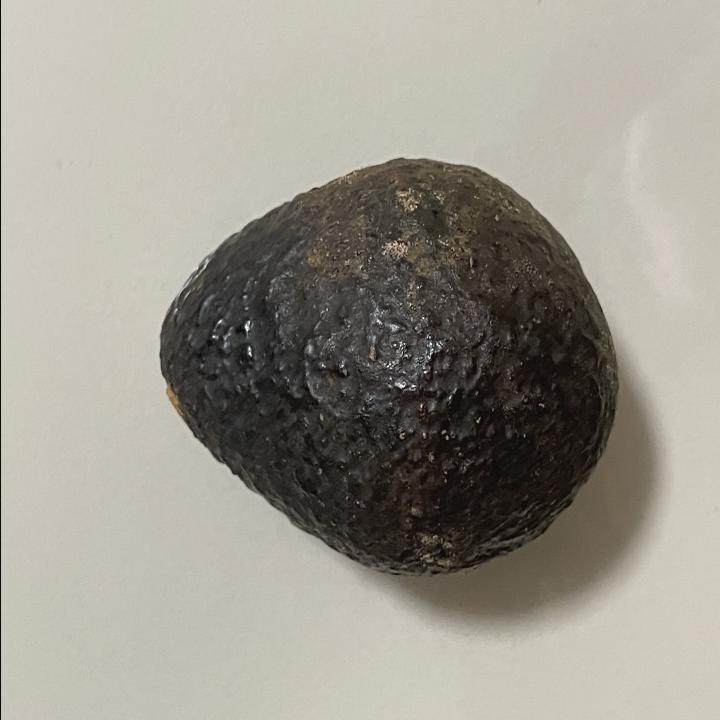Level3: (148, 143, 625, 586)
